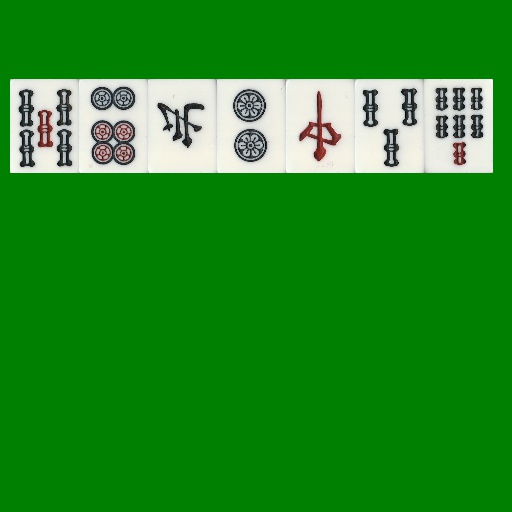2p: (217, 79, 286, 173)
3s: (355, 79, 424, 173)
5s: (10, 79, 79, 173)
6p: (79, 79, 148, 173)
7s: (424, 79, 493, 173)
north: (148, 79, 217, 173)
tyun: (286, 79, 355, 173)
